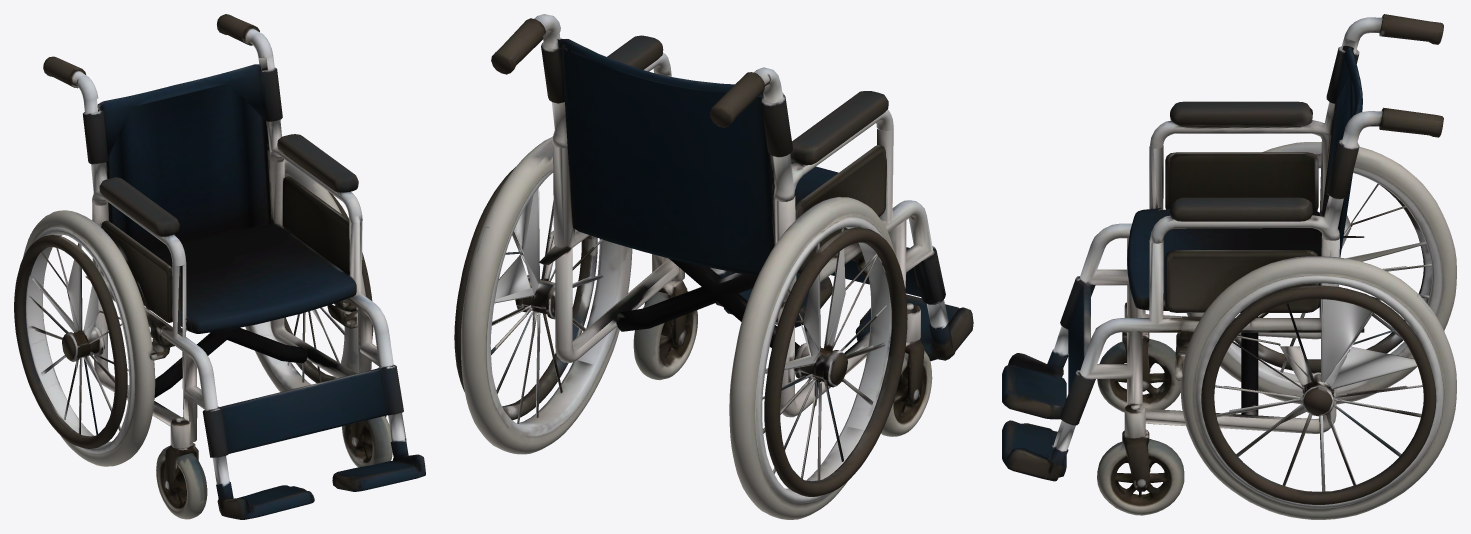
The model's file is a_wheelchair_6ca2b945_v2.glb.
3 renders of one model, left to right at view 1: azimuth 30°, elevation 25°; view 2: azimuth 150°, elevation 25°; view 3: azimuth 270°, elevation 25°, orthographic. The views are drawn at different scales.
Visible parts, largest first — view 1: material; view 2: material; view 3: material.
Part boxes in pixels (box(x1,y1,x2,y2)): material: box(14, 14, 425, 519); material: box(454, 14, 973, 519); material: box(1002, 14, 1456, 519).
Bounding box in the file's own units: 1.36 × 1.85 × 1.9.
Materials: 1 (1 with a texture image).
